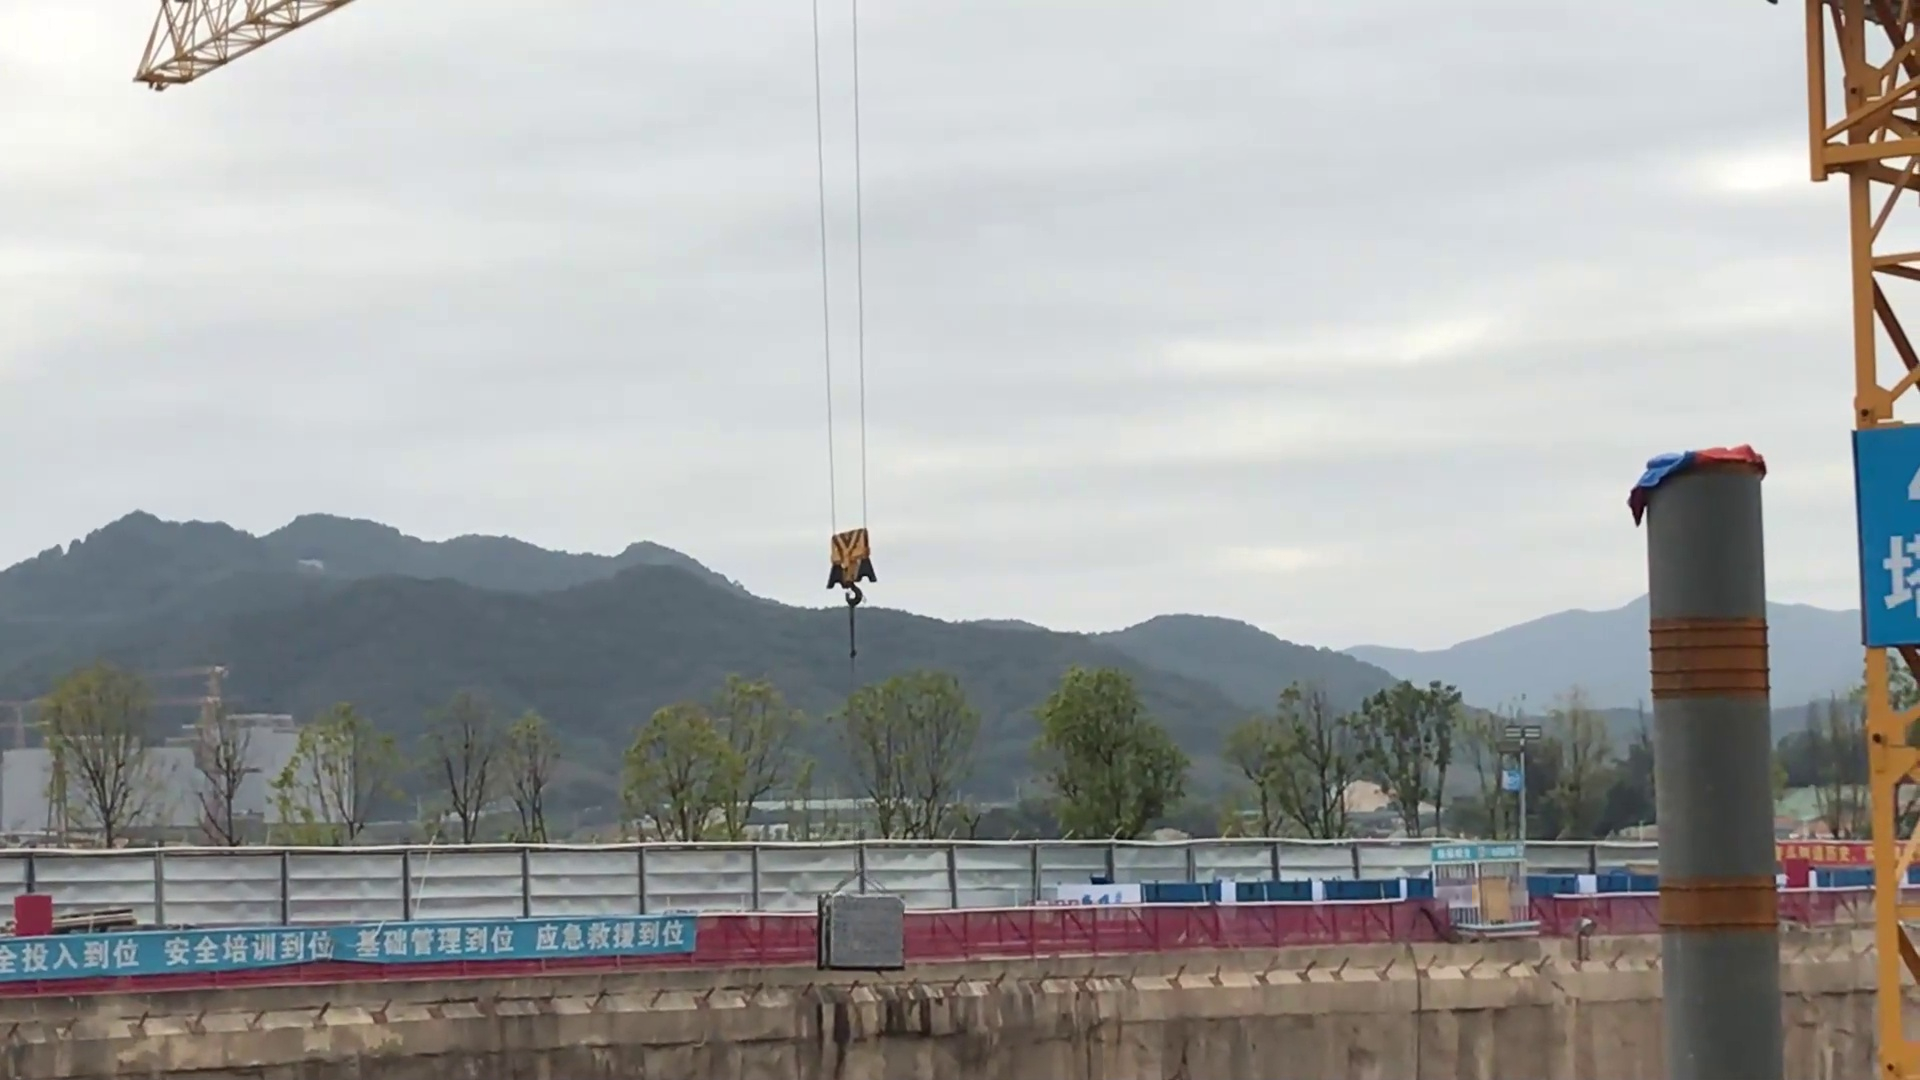hook: (822, 531, 884, 607)
slogan: (3, 909, 702, 988)
